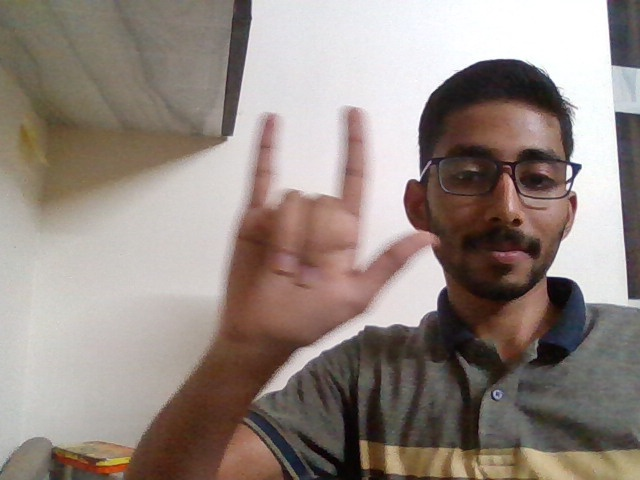Enjoy: (204, 89, 447, 366)
